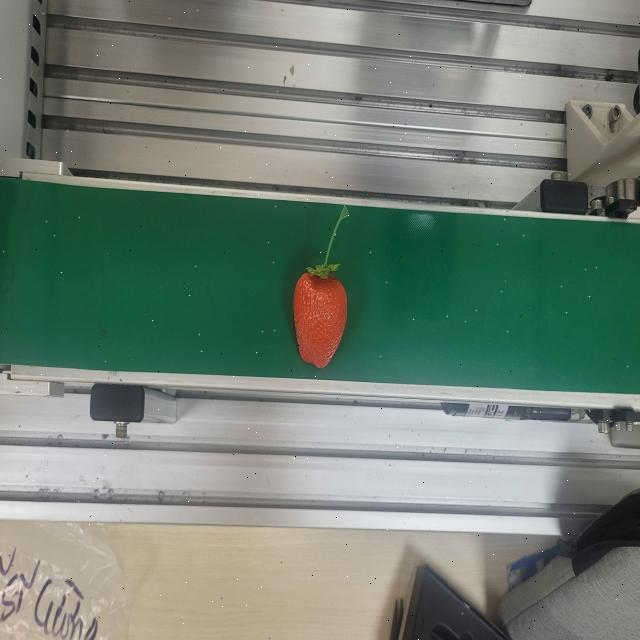Large Ripe Strawberry: (290, 203, 350, 371)
conveyor: (0, 166, 640, 403)
